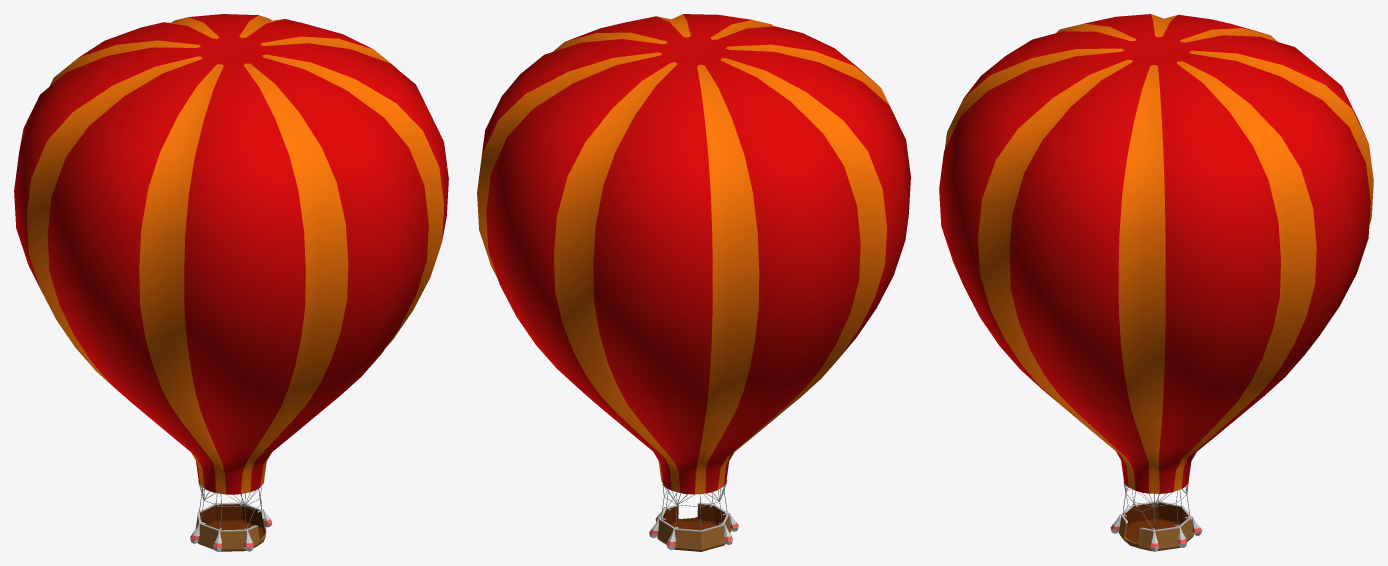
The model's file is balloon.glb.
3 views of the same model, side by side, from view 1: azimuth 30°, elevation 25°; view 2: azimuth 150°, elevation 25°; view 3: azimuth 270°, elevation 25° (orthographic).
Visible parts, largest first — view 1: Cube.079; view 2: Cube.079; view 3: Cube.079.
Part boxes in pixels (x1=…): Cube.079: x1=14, y1=14, x2=448, y2=551; Cube.079: x1=477, y1=14, x2=910, y2=551; Cube.079: x1=939, y1=14, x2=1373, y2=551.
Size of what is drawn, in the model's own units: 22.94 by 28.26 by 22.94.
3 materials, 3 textured.
